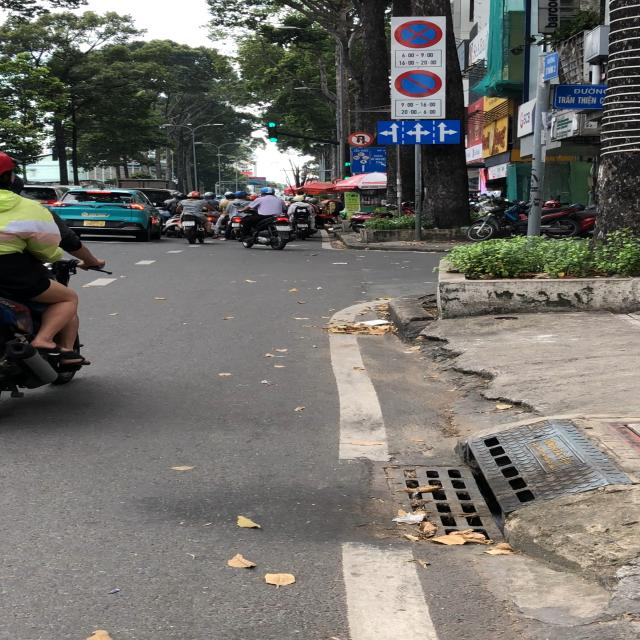Bien bao cam do xe: (391, 69, 448, 99)
Bien bao cam dung xe va do xe: (393, 18, 448, 51)
Bien bao cam quay dau xe: (346, 130, 374, 150)
